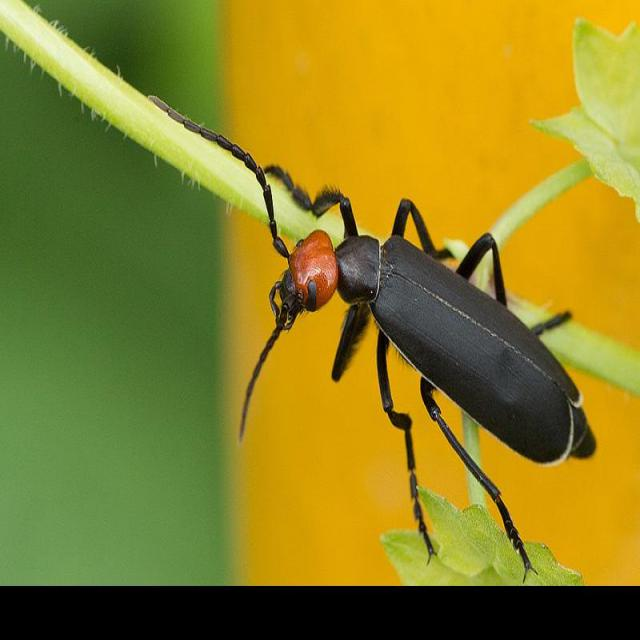BlisterBeetle-Adult-: (143, 74, 603, 553)
